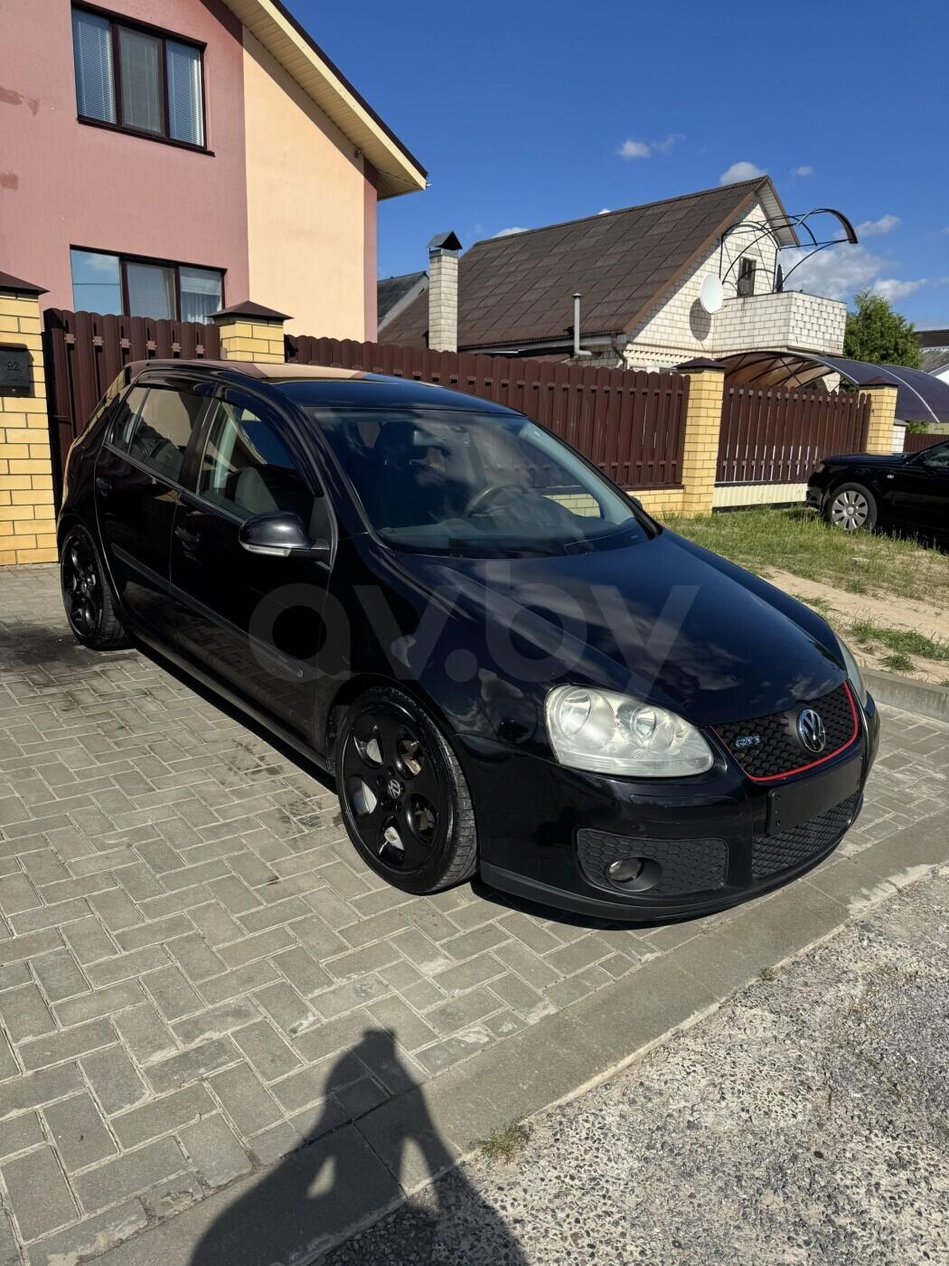Golf_2003-2009: (45, 342, 883, 917)
